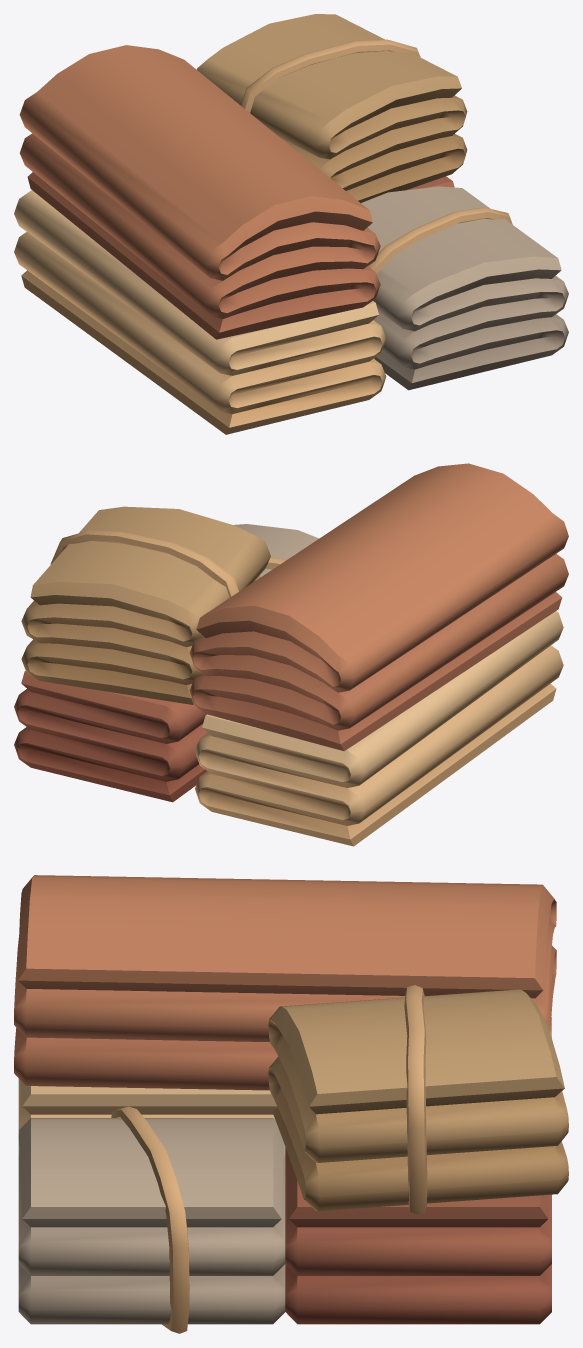
Rendered from Textiles_Stack_Large.glb.
3 renders of one model, top to bottom at view 1: azimuth 30°, elevation 25°; view 2: azimuth 150°, elevation 25°; view 3: azimuth 270°, elevation 25°, orthographic. The views are drawn at different scales.
Parts seen in each view (by area): view 1: Textiles_Stack_Large; view 2: Textiles_Stack_Large; view 3: Textiles_Stack_Large.
Boxes of the visible parts, x1,y1,x2,y2 form: Textiles_Stack_Large: (14, 14, 568, 434); Textiles_Stack_Large: (14, 463, 568, 846); Textiles_Stack_Large: (14, 875, 568, 1333).
Bounding box in the file's own units: 1.64 × 0.9556 × 1.66.
Materials: 1 (1 with a texture image).
